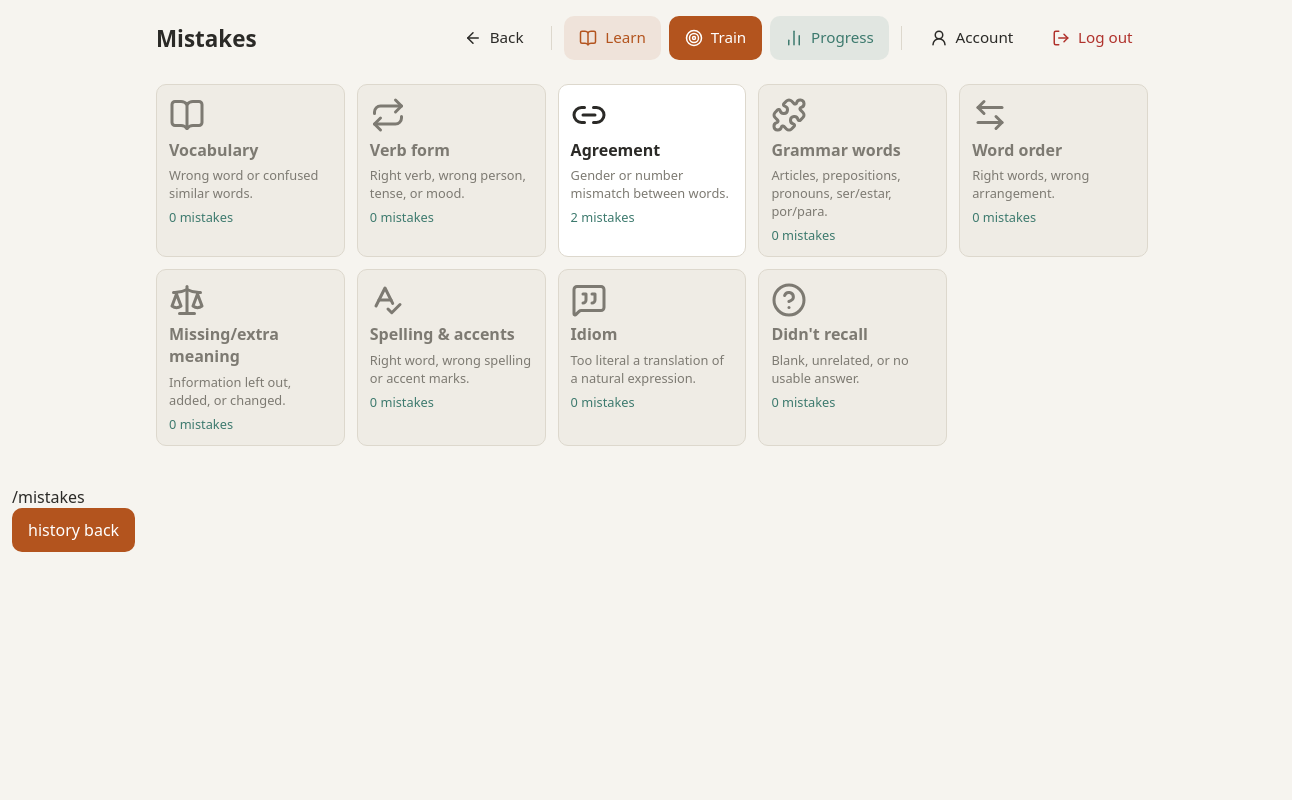
Scenario: MistakesPage › loads more mistakes when Load more is clicked
The image size is (1292, 800).
Expected: the text "Agreement" is shown, [571,139,660,161]
What coordinates should you click on to do the following:
click the button "Agreement"
I would click on:
 (652, 161)
Its box is [571,97,733,226].
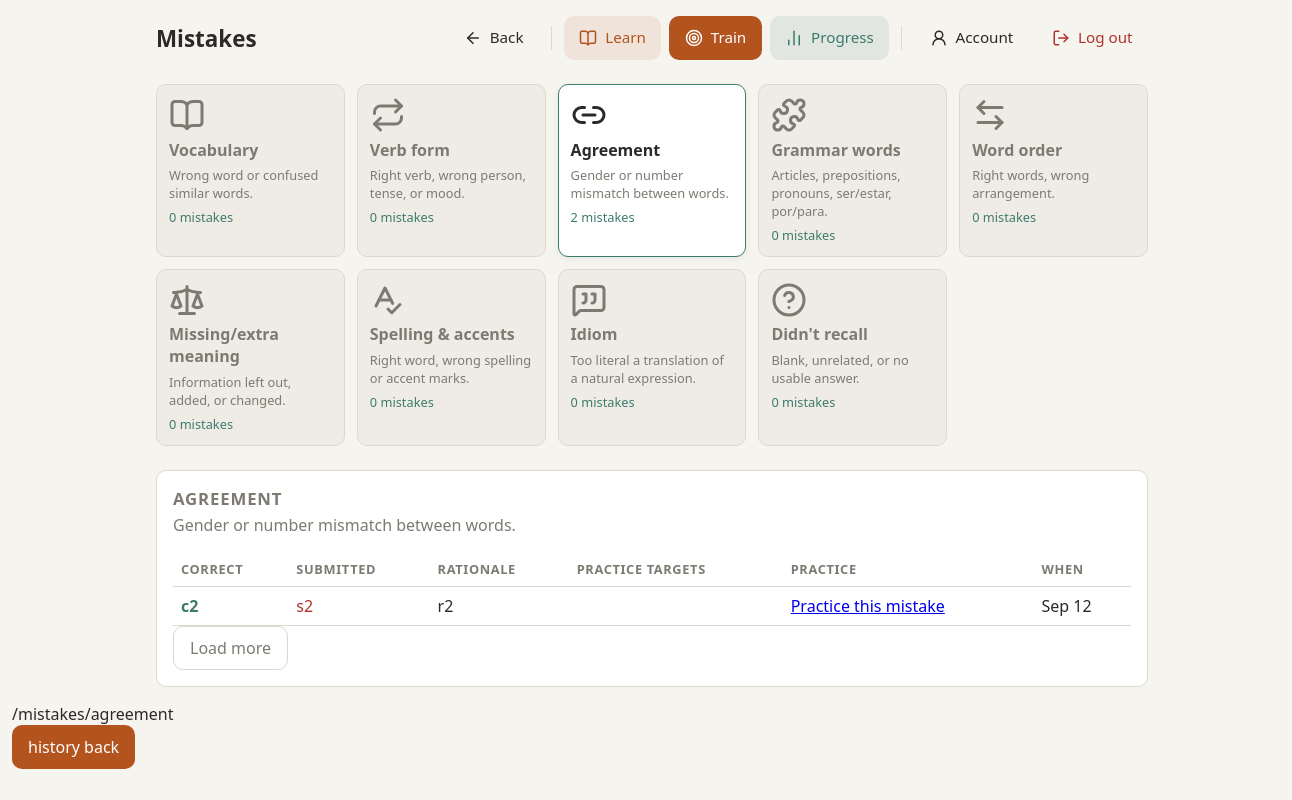
Expected: the text "c2" is shown, [173,586,288,625]
What coordinates should you click on to do the following:
click the button "Load more"
I would click on:
 (230, 648)
Its box is [173,626,288,670].
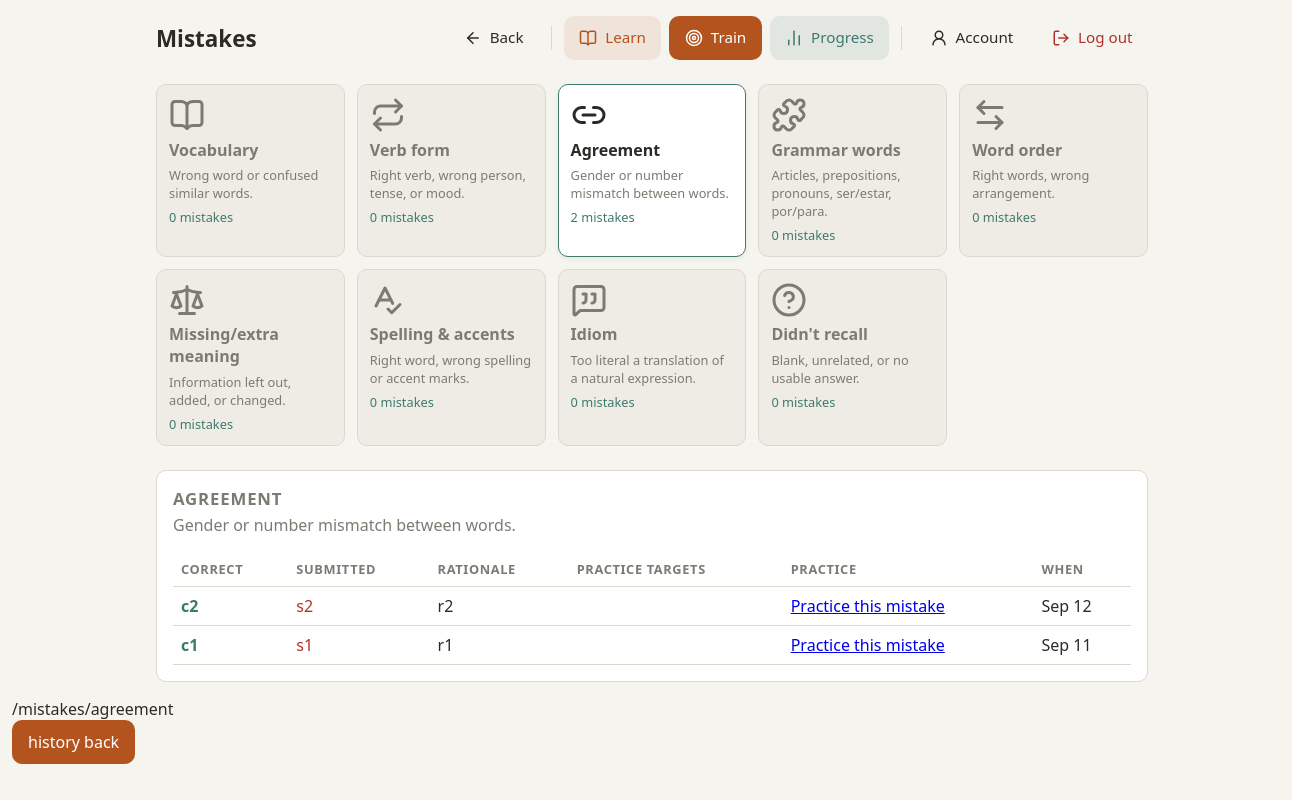
Expected: the text "c2" is shown, [173,586,288,625]
Expected: the text "c1" is shown, [173,625,288,664]
Expected: the button "Load more" is gone
